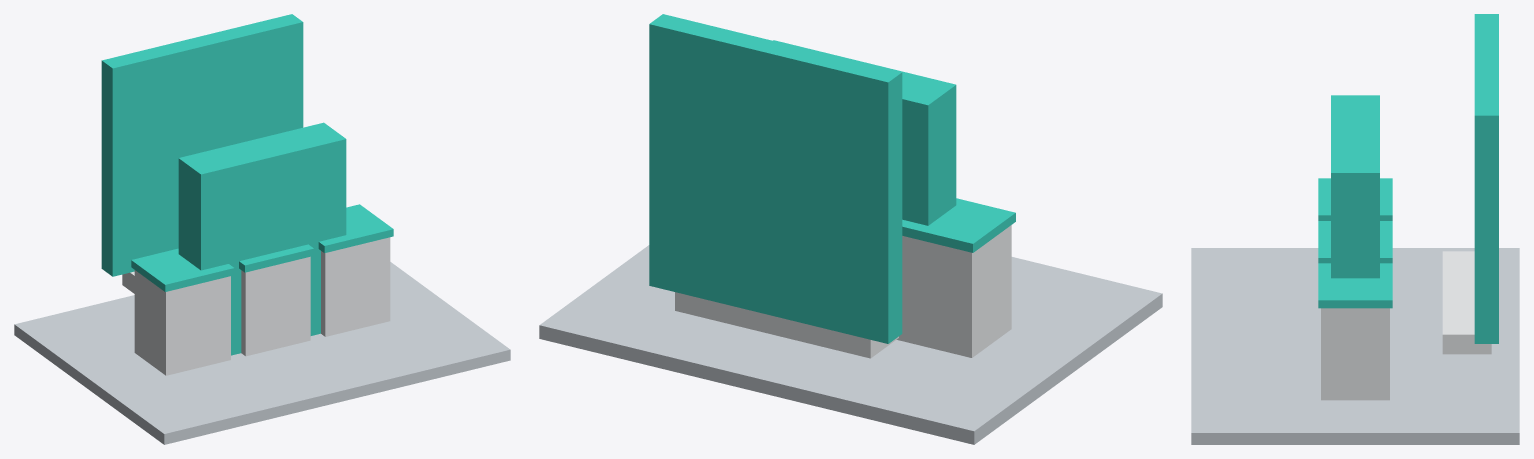
3 views of the same model, side by side, from view 1: azimuth 30°, elevation 25°; view 2: azimuth 150°, elevation 25°; view 3: azimuth 270°, elevation 25° (orthographic). The views are drawn at different scales.
Parts seen in each view (by area): view 1: Exhibition Booth Concept; view 2: Exhibition Booth Concept; view 3: Exhibition Booth Concept.
Part boxes in pixels (x1=…): Exhibition Booth Concept: x1=14, y1=14, x2=510, y2=444; Exhibition Booth Concept: x1=539, y1=14, x2=1162, y2=444; Exhibition Booth Concept: x1=1191, y1=14, x2=1519, y2=444.
Size of the model in its own units: 4 by 2.9 by 3.
